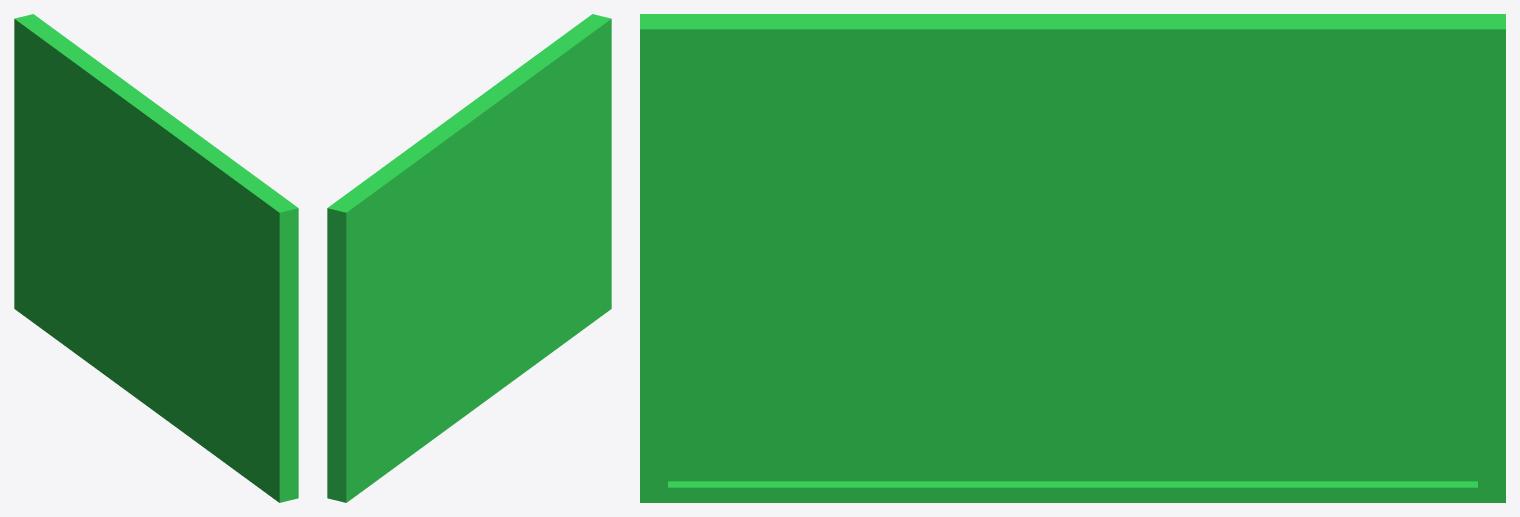
Rendered from Cork_Board.fbx.
The picture shows the model from 3 angles, left to right: view 1: azimuth 30°, elevation 25°; view 2: azimuth 150°, elevation 25°; view 3: azimuth 270°, elevation 25°; orthographic projection. The views are drawn at different scales.
Visible parts, largest first — view 1: Cube.115; view 2: Cube.115; view 3: Cube.115.
Boxes of the visible parts, x1,y1,x2,y2 form: Cube.115: (14, 14, 298, 502); Cube.115: (327, 14, 611, 502); Cube.115: (640, 14, 1505, 502).
Bounding box in the file's own units: 9.11 × 132 × 218.
